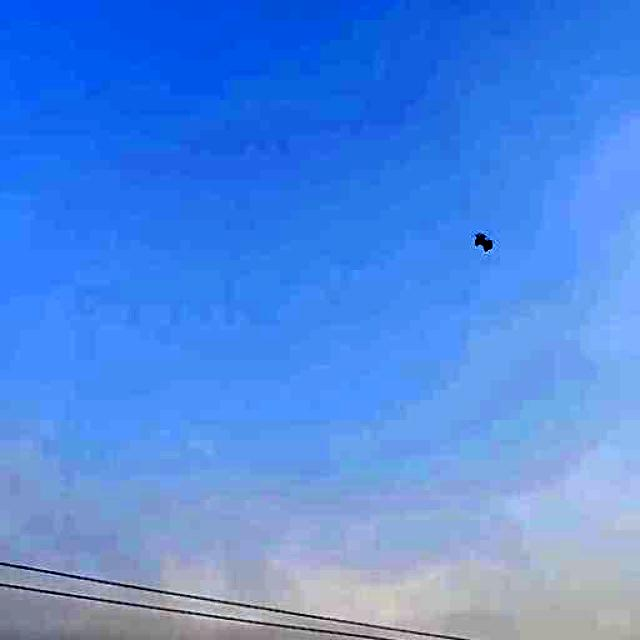bird: (471, 214, 496, 262)
